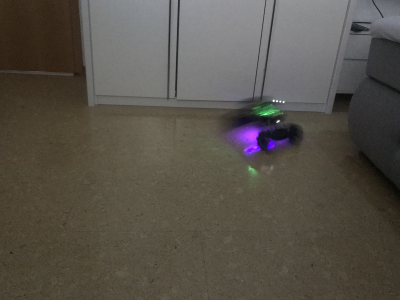remote control car: (225, 94, 306, 153)
